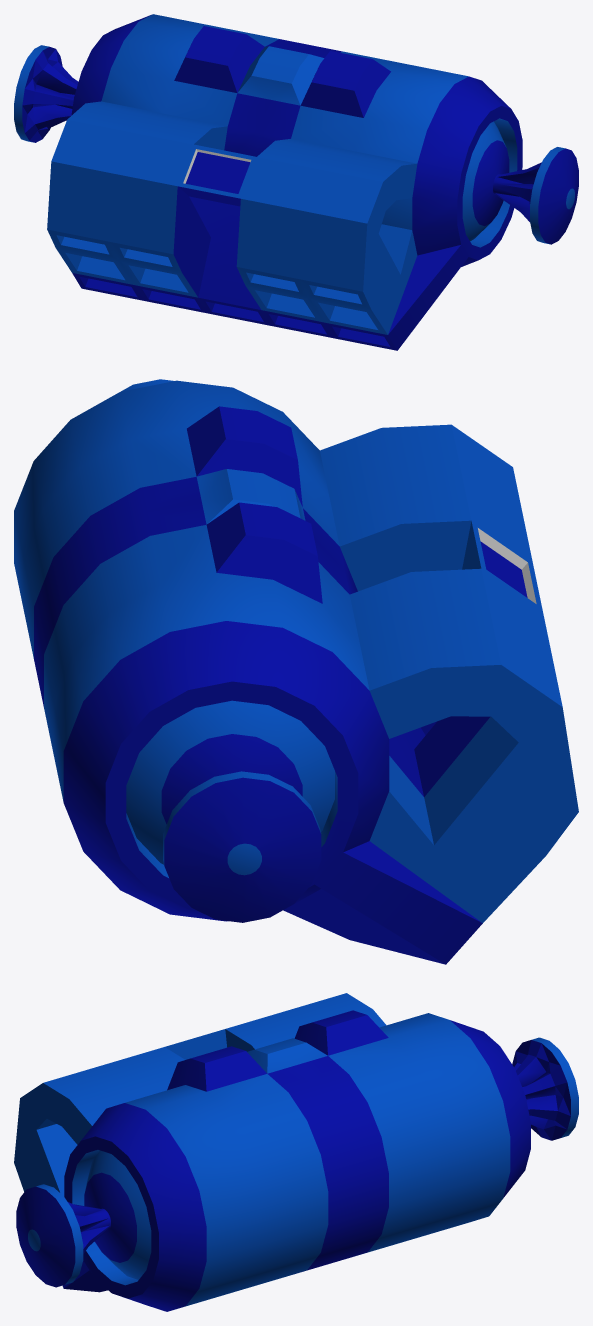
The model's file is Boost Canister.FBX.
The picture shows the model from 3 angles, top to bottom: view 1: azimuth 30°, elevation 25°; view 2: azimuth 150°, elevation 25°; view 3: azimuth 270°, elevation 25°; orthographic projection. The views are drawn at different scales.
Parts seen in each view (by area): view 1: Cylinder001; view 2: Cylinder001; view 3: Cylinder001.
Boxes of the visible parts, left/top/right/bottom form: Cylinder001: left=14, top=14, right=578, bottom=350; Cylinder001: left=14, top=379, right=578, bottom=964; Cylinder001: left=14, top=993, right=578, bottom=1311.
Size of the model in its own units: 40.4 by 21.5 by 44.49.
